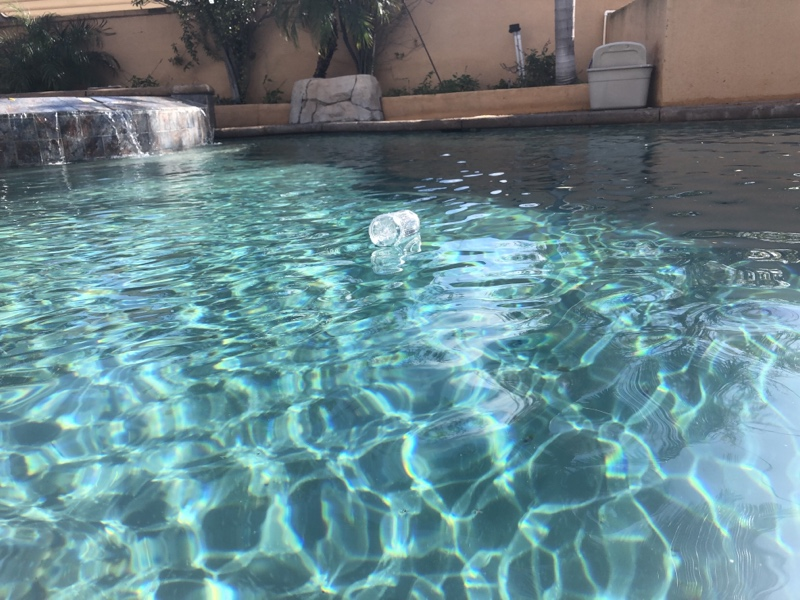Plastic Bottle: (364, 207, 425, 250)
